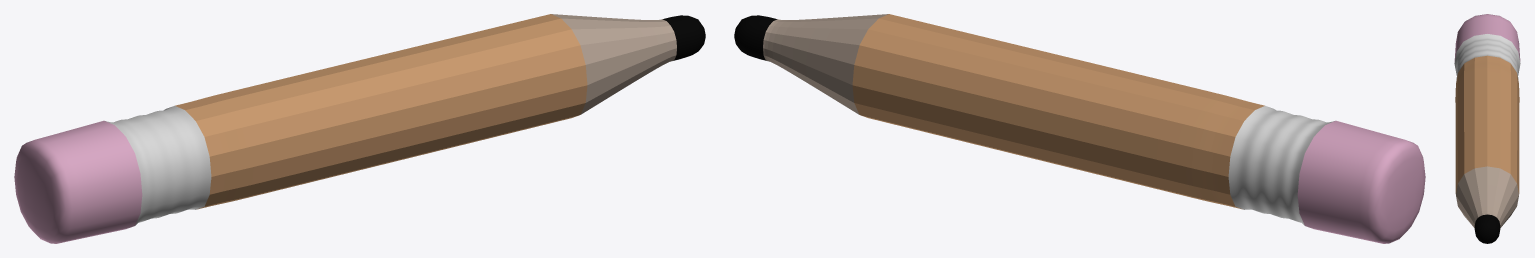
Rendered from pencil.glb.
3 renders of one model, left to right at view 1: azimuth 30°, elevation 25°; view 2: azimuth 150°, elevation 25°; view 3: azimuth 270°, elevation 25°, orthographic. The views are drawn at different scales.
Visible parts, largest first — view 1: Cube.003, Cube, Cube.004, Cube.002, Cube.001; view 2: Cube.003, Cube, Cube.004, Cube.002, Cube.001; view 3: Cube.003, Cube.002, Cube.004, Cube, Cube.001.
Part boxes in pixels (x1,y1,x2,y2): Cube.003: (175,14,587,209); Cube: (14,120,142,243); Cube.004: (105,105,211,225); Cube.002: (551,14,676,114); Cube.001: (662,15,705,60); Cube.003: (852,14,1264,209); Cube: (1297,120,1425,243); Cube.004: (1228,105,1334,225); Cube.002: (763,14,888,114); Cube.001: (734,15,777,60); Cube.003: (1455,55,1519,193); Cube.002: (1456,166,1518,227); Cube.004: (1454,34,1520,78); Cube: (1454,14,1520,61); Cube.001: (1474,214,1500,243).
Bounding box in the file's own units: 0.5206 × 0.0738 × 0.0738.
